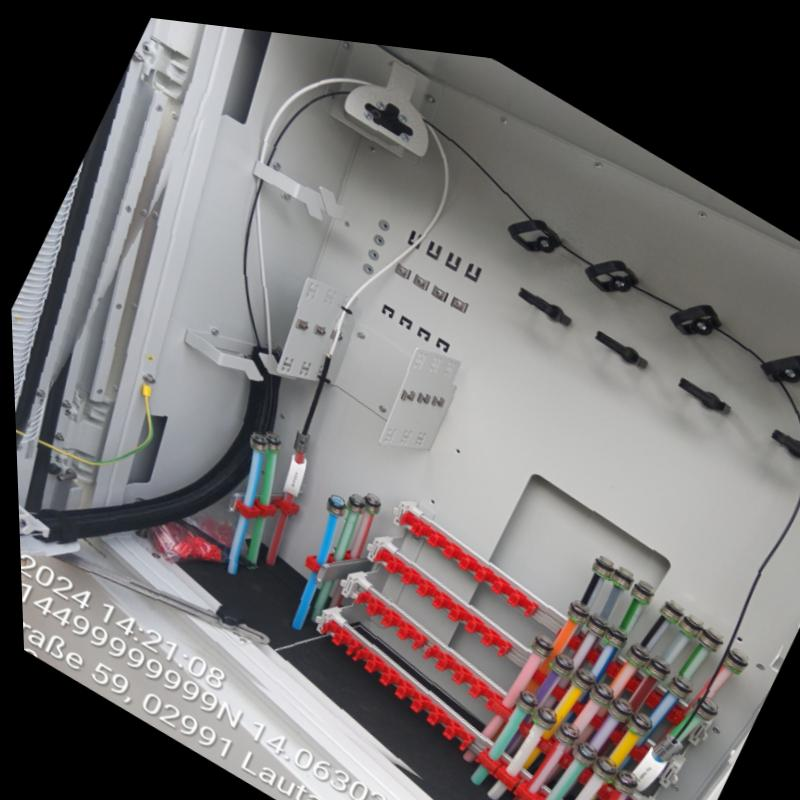NT-Gehause: (0, 0, 800, 800)
Spleiskassetten: (9, 45, 135, 444)
